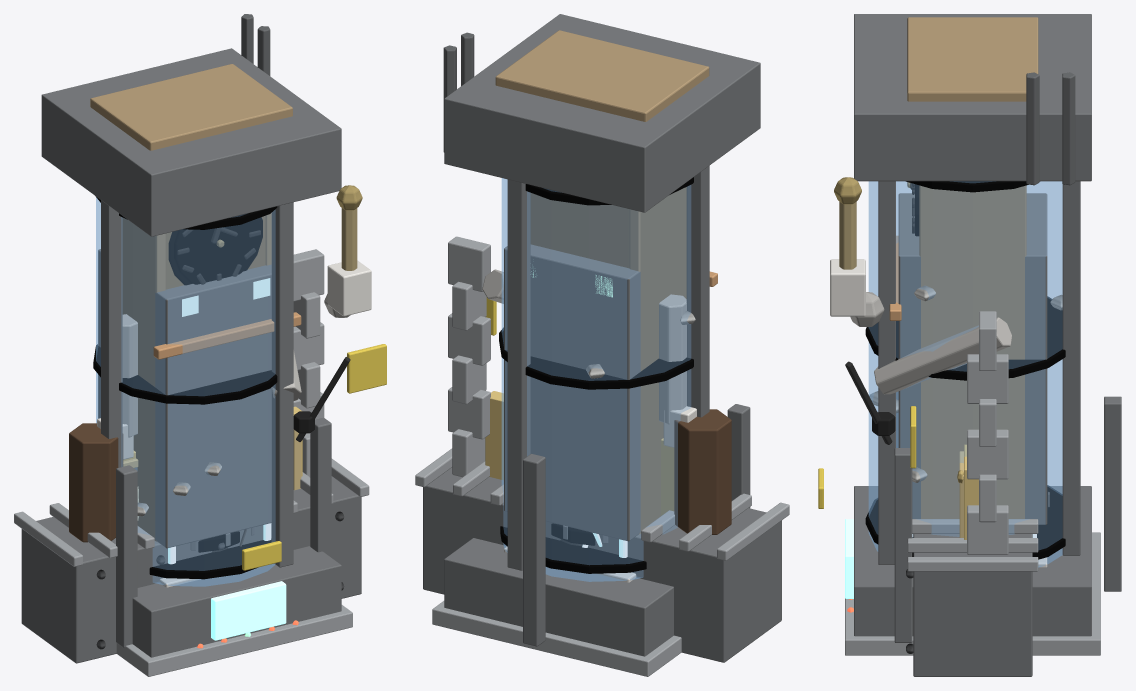
File: loot.glb
3 views of the same model, side by side, from view 1: azimuth 30°, elevation 25°; view 2: azimuth 150°, elevation 25°; view 3: azimuth 270°, elevation 25° (orthographic). The views are drawn at different scales.
Visible parts, largest first — view 1: cryo, anchor, clock, coil, statue, painting; view 2: cryo, anchor, clock, coil, statue, painting; view 3: cryo, anchor, clock, coil, statue, painting.
Part boxes in pixels (x1=…): cryo: x1=41, y1=14, x2=352, y2=676; anchor: x1=14, y1=249, x2=386, y2=663; clock: x1=90, y1=64, x2=292, y2=541; coil: x1=116, y1=357, x2=350, y2=647; statue: x1=97, y1=185, x2=371, y2=587; painting: x1=123, y1=406, x2=302, y2=519; cryo: x1=432, y1=14, x2=760, y2=676; anchor: x1=415, y1=236, x2=789, y2=662; clock: x1=495, y1=30, x2=709, y2=534; coil: x1=523, y1=404, x2=750, y2=646; statue: x1=482, y1=269, x2=696, y2=582; painting: x1=485, y1=391, x2=674, y2=515; cryo: x1=845, y1=14, x2=1100, y2=655; anchor: x1=889, y1=193, x2=1047, y2=676; clock: x1=907, y1=17, x2=1038, y2=518; coil: x1=818, y1=361, x2=1121, y2=642; statue: x1=830, y1=177, x2=1047, y2=567; painting: x1=957, y1=444, x2=978, y2=539.
Size of the model in its own units: 1.32 by 2.22 by 1.02.
